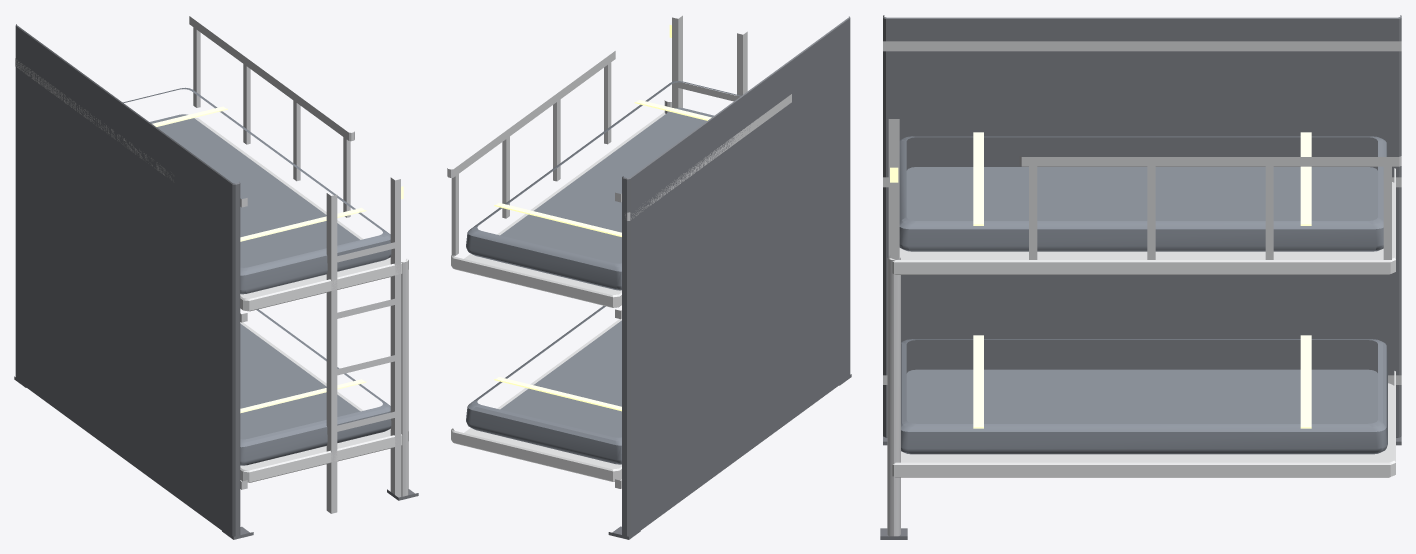
Rendered from iter_02.glb.
3 views of the same model, side by side, from view 1: azimuth 30°, elevation 25°; view 2: azimuth 150°, elevation 25°; view 3: azimuth 270°, elevation 25° (orthographic). The views are drawn at different scales.
Parts seen in each view (by area): view 1: Wall_Plate, Mattress_Up, Mattress_Lo, Ladder, Decks, Guard_Rails, Front_Post, Mattress_Straps; view 2: Wall_Plate, Mattress_Up, Mattress_Lo, Decks, Guard_Rails, Ladder, Mattress_Straps; view 3: Wall_Plate, Mattress_Lo, Mattress_Up, Decks, Guard_Rails, Wall_Rails, Mattress_Straps, Front_Post, Ladder.
Part boxes in pixels (x1,y1,x2,y2): Wall_Plate: [15, 24, 240, 537]; Mattress_Up: [123, 87, 391, 294]; Mattress_Lo: [240, 309, 391, 465]; Ladder: [326, 177, 400, 513]; Decks: [194, 117, 408, 482]; Guard_Rails: [15, 16, 354, 217]; Front_Post: [401, 260, 408, 496]; Mattress_Straps: [152, 106, 366, 413]; Wall_Plate: [622, 16, 850, 538]; Mattress_Up: [466, 81, 741, 290]; Mattress_Lo: [466, 305, 621, 464]; Decks: [451, 112, 665, 481]; Guard_Rails: [447, 51, 791, 255]; Ladder: [672, 15, 747, 108]; Mattress_Straps: [494, 100, 711, 411]; Wall_Plate: [883, 15, 1401, 437]; Mattress_Lo: [901, 339, 1387, 454]; Mattress_Up: [899, 136, 1387, 251]; Decks: [888, 168, 1395, 477]; Guard_Rails: [1019, 156, 1401, 259]; Wall_Rails: [883, 41, 1401, 384]; Mattress_Straps: [973, 132, 1311, 428]; Front_Post: [887, 257, 900, 536]; Ladder: [888, 119, 899, 259].
Size of the model in its own units: 0.92 by 1.7 by 1.91.
